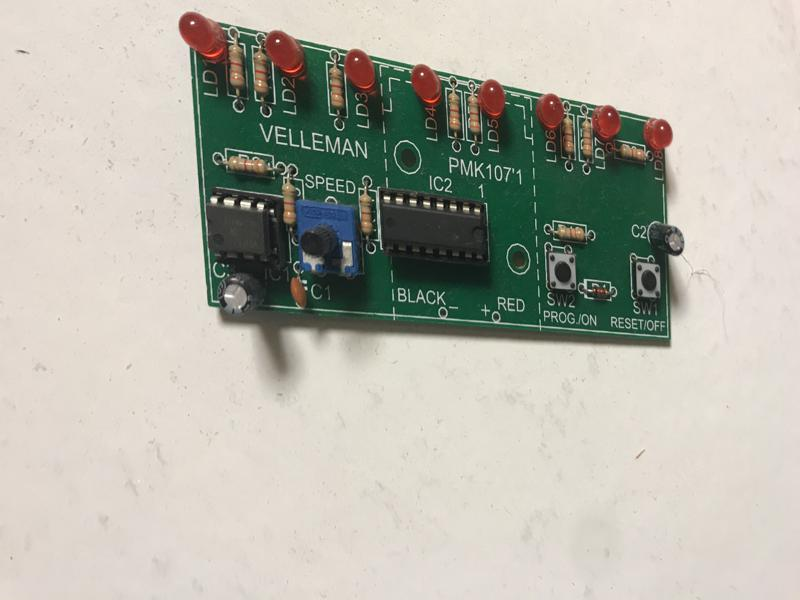Capacitor: (215, 273, 267, 319), (647, 221, 687, 258)
Diode: (587, 284, 612, 300)
LED: (176, 10, 229, 63), (263, 29, 307, 76), (410, 63, 444, 106), (343, 49, 377, 89), (477, 78, 506, 118), (592, 104, 622, 142), (642, 118, 674, 153), (534, 93, 564, 128)
Resistor: (221, 153, 274, 178), (251, 48, 273, 103), (356, 186, 376, 241), (326, 62, 346, 116), (227, 43, 247, 96), (281, 177, 299, 231), (465, 92, 484, 142), (446, 89, 464, 139), (552, 221, 588, 244), (579, 117, 595, 166), (560, 114, 577, 160), (614, 141, 648, 163)
